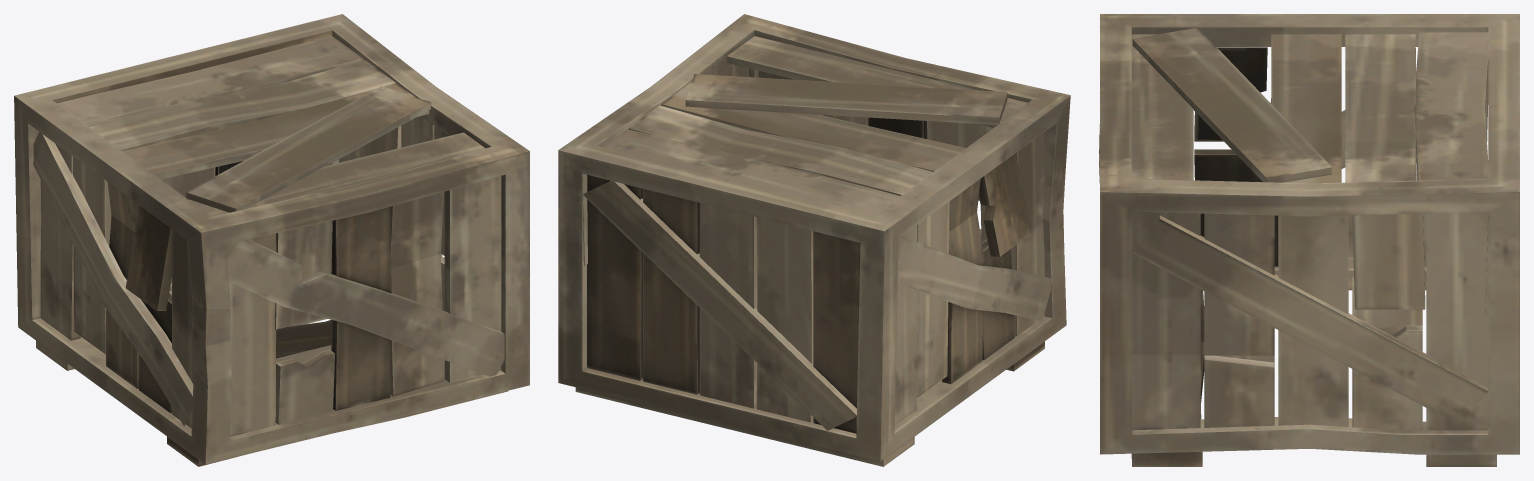
File: BreakableCrateSmall.glb
3 renders of one model, left to right at view 1: azimuth 30°, elevation 25°; view 2: azimuth 150°, elevation 25°; view 3: azimuth 270°, elevation 25°, orthographic. The views are drawn at different scales.
Parts seen in each view (by area): view 1: BreakableCrateSmall, BreakableCrate_1_Gib2, BreakableCrate_1_Gib5, BreakableCrate_1_Gib1, BreakableCrate_1_Gib3, BreakableCrate_1_Gib4, BreakableCrate_1_Gib8, BreakableCrate_1_Gib7; view 2: BreakableCrateSmall, BreakableCrate_1_Gib5, BreakableCrate_1_Gib2, BreakableCrate_1_Gib8, BreakableCrate_1_Gib3, BreakableCrate_1_Gib1, BreakableCrate_1_Gib7, BreakableCrate_1_Gib4, BreakableCrate_1_Gib6; view 3: BreakableCrateSmall, BreakableCrate_1_Gib7, BreakableCrate_1_Gib5, BreakableCrate_1_Gib2, BreakableCrate_1_Gib3, BreakableCrate_1_Gib8, BreakableCrate_1_Gib6, BreakableCrate_1_Gib4.
Part boxes in pixels (x1,y1,x2,y2): BreakableCrateSmall: (14,14,522,466); BreakableCrate_1_Gib2: (353,119,529,403); BreakableCrate_1_Gib5: (14,68,288,418); BreakableCrate_1_Gib1: (139,229,448,463); BreakableCrate_1_Gib3: (135,169,367,346); BreakableCrate_1_Gib4: (186,90,431,212); BreakableCrate_1_Gib8: (89,60,395,151); BreakableCrate_1_Gib7: (124,14,411,175); BreakableCrateSmall: (558,15,1070,466); BreakableCrate_1_Gib5: (734,168,991,466); BreakableCrate_1_Gib2: (698,14,904,125); BreakableCrate_1_Gib8: (629,105,932,195); BreakableCrate_1_Gib3: (881,58,1070,208); BreakableCrate_1_Gib1: (992,135,1063,360); BreakableCrate_1_Gib7: (558,86,781,344); BreakableCrate_1_Gib4: (686,92,1000,117); BreakableCrate_1_Gib6: (582,270,642,380); BreakableCrateSmall: (1099,14,1519,466); BreakableCrate_1_Gib7: (1310,73,1519,316); BreakableCrate_1_Gib5: (1274,14,1519,289); BreakableCrate_1_Gib2: (1100,108,1309,453); BreakableCrate_1_Gib3: (1100,14,1250,108); BreakableCrate_1_Gib8: (1345,34,1415,182); BreakableCrate_1_Gib6: (1310,212,1519,454); BreakableCrate_1_Gib4: (1132,39,1331,182).
Bounding box in the file's own units: 0.9043 × 0.6506 × 0.8888.
Materials: 1 (1 with a texture image).
